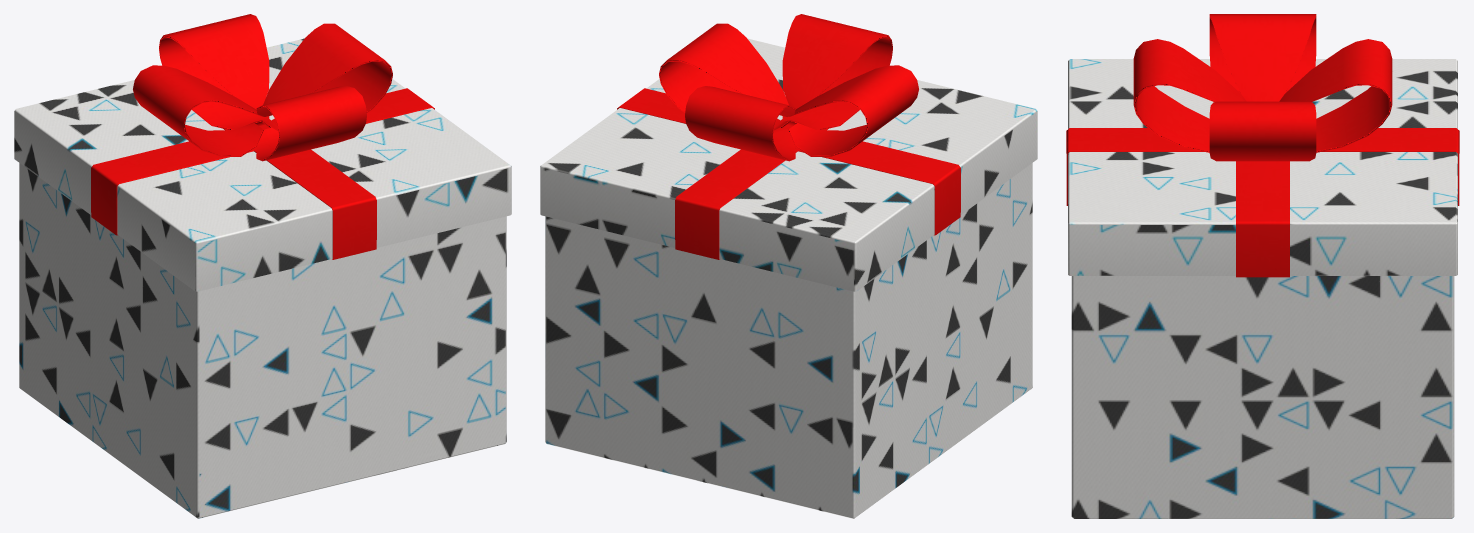
3 renders of one model, left to right at view 1: azimuth 30°, elevation 25°; view 2: azimuth 150°, elevation 25°; view 3: azimuth 270°, elevation 25°, orthographic. The views are drawn at different scales.
Parts seen in each view (by area): view 1: SK_GiftBox (×3); view 2: SK_GiftBox (×3); view 3: SK_GiftBox (×3).
Part boxes in pixels (box(x1,y1,x2,y2)): SK_GiftBox (×3): box(14, 14, 511, 518); SK_GiftBox (×3): box(540, 14, 1037, 518); SK_GiftBox (×3): box(1066, 14, 1459, 518).
Bounding box in the file's own units: 1.88 × 2 × 1.88.
3 materials, 3 textured.
